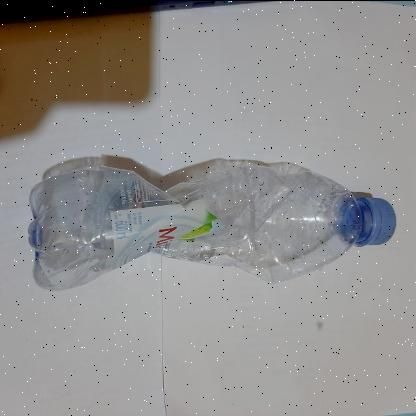Plastic Bottle: (26, 160, 398, 290)
